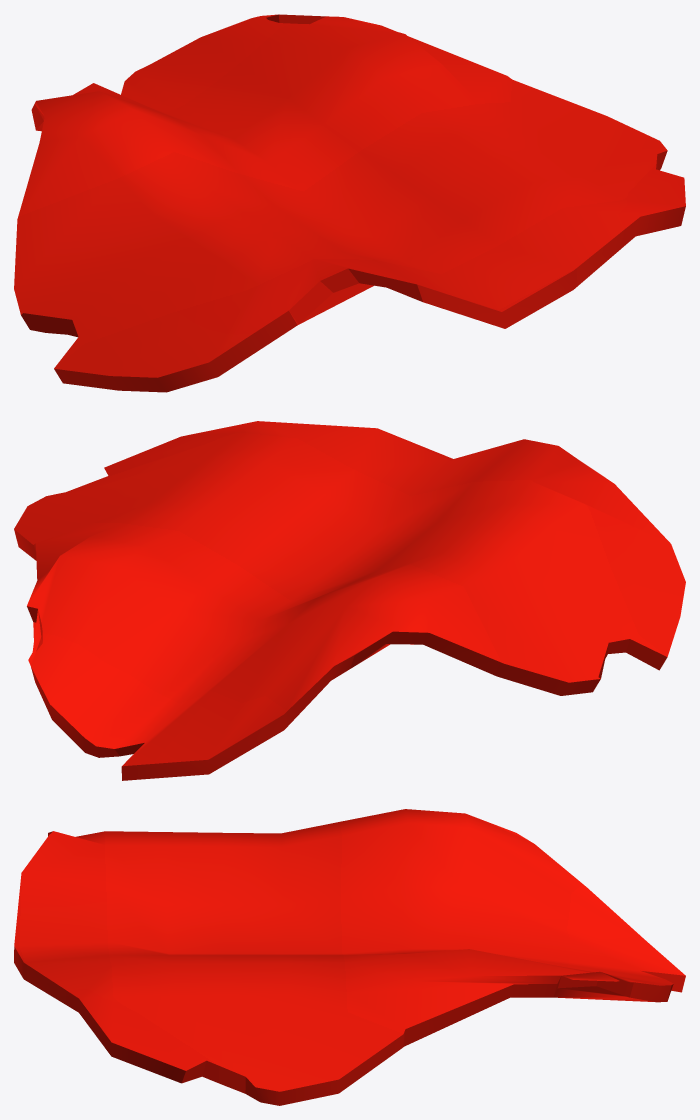
The model's file is BasicLeaf_CandyRed.obj.
3 renders of one model, top to bottom at view 1: azimuth 30°, elevation 25°; view 2: azimuth 150°, elevation 25°; view 3: azimuth 270°, elevation 25°, orthographic. The views are drawn at different scales.
Visible parts, largest first — view 1: BasicLeaf_CandyRed; view 2: BasicLeaf_CandyRed; view 3: BasicLeaf_CandyRed.
Boxes of the visible parts, box(x1,y1,x2,y2) form: BasicLeaf_CandyRed: box(14, 14, 685, 392); BasicLeaf_CandyRed: box(14, 421, 685, 780); BasicLeaf_CandyRed: box(14, 809, 685, 1105).
Size of the model in its own units: 6.78 by 1.4 by 6.94.
